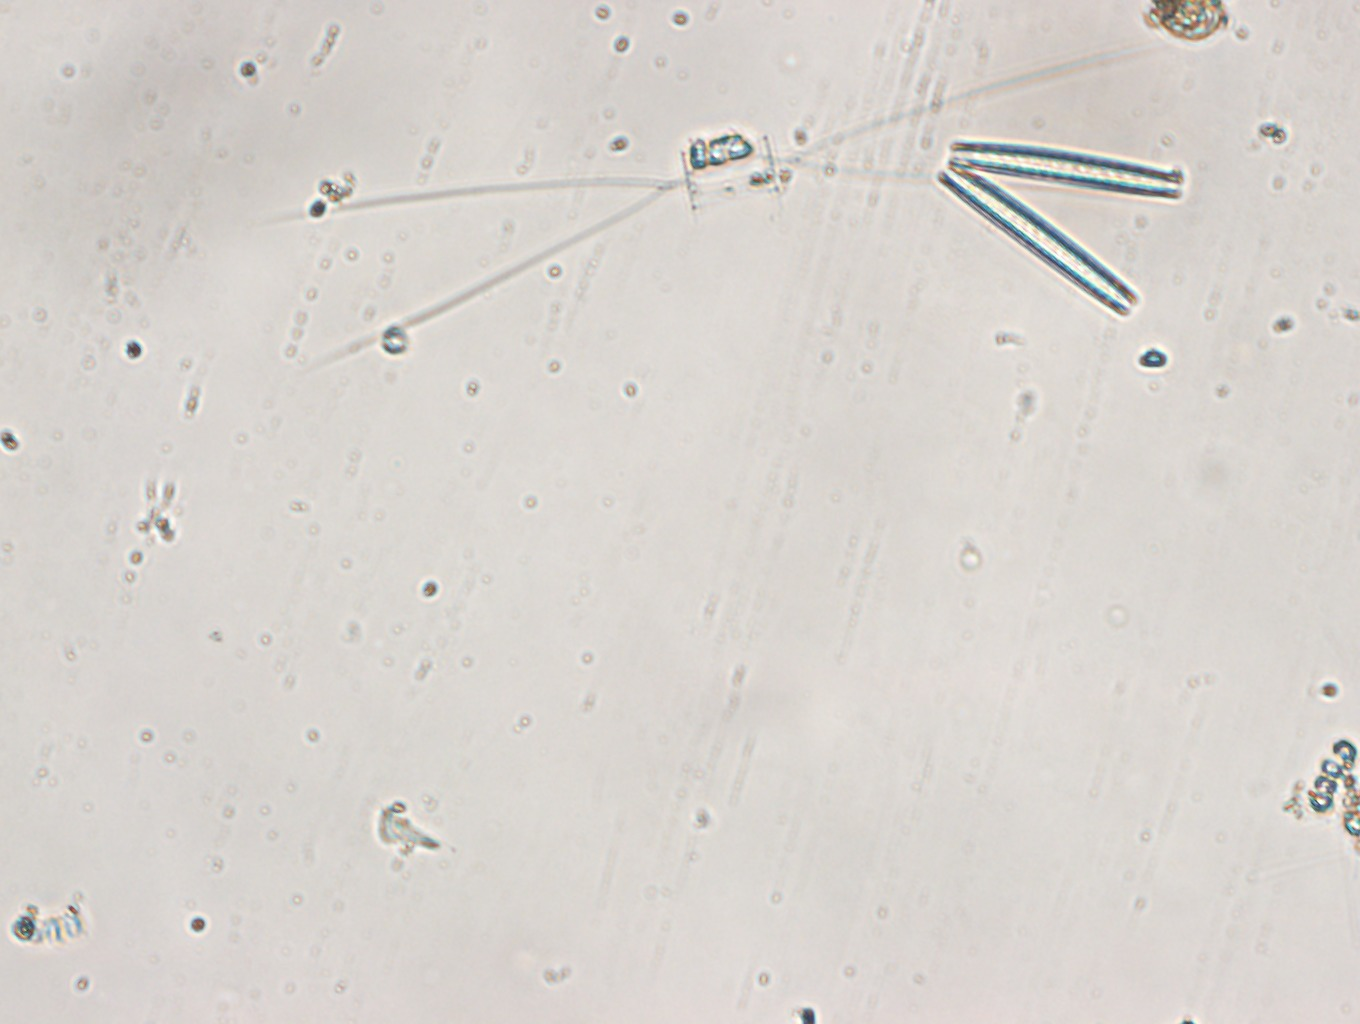chaetoceros: (256, 26, 1170, 367)
thalassionema nitzschioides: (930, 133, 1188, 327)
